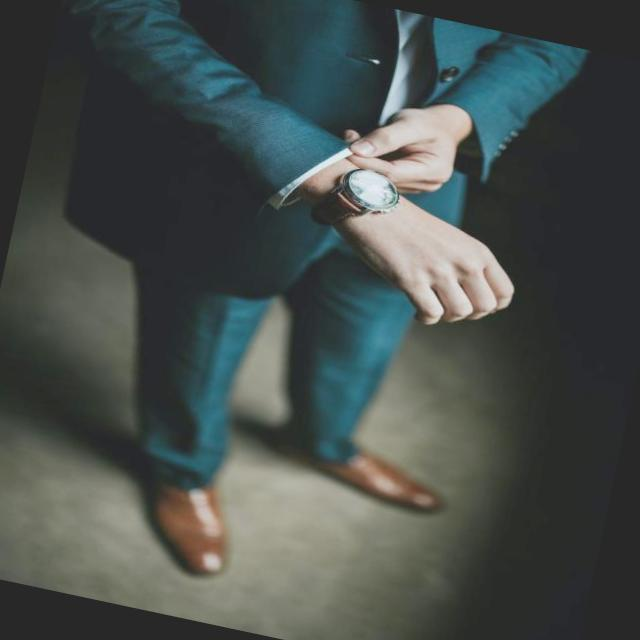person: (0, 0, 590, 633)
